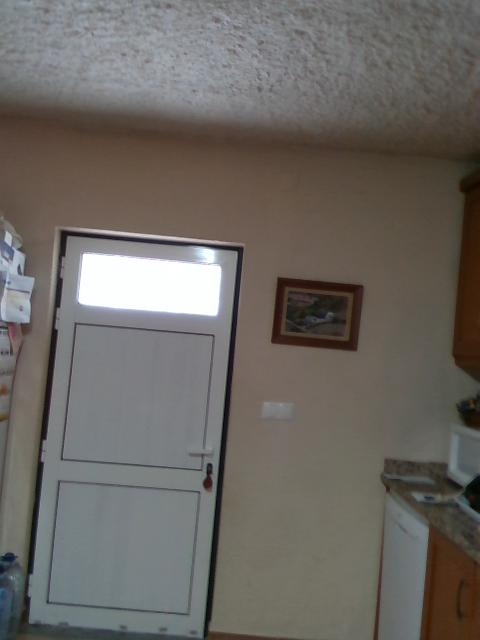closed_door: (20, 225, 246, 639)
